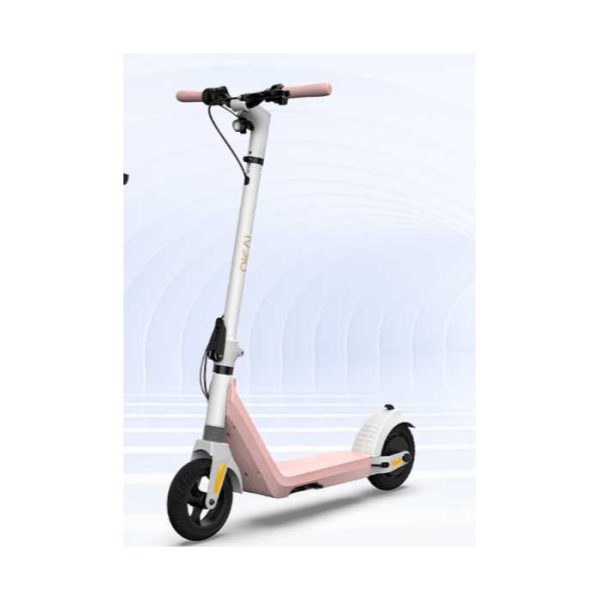kick_board: (169, 82, 416, 539)
kick_body: (240, 450, 370, 493)
kick_handler: (175, 80, 332, 122)
kick_neck: (196, 115, 276, 441)
kick_wheel: (165, 461, 237, 541), (353, 404, 416, 490)
